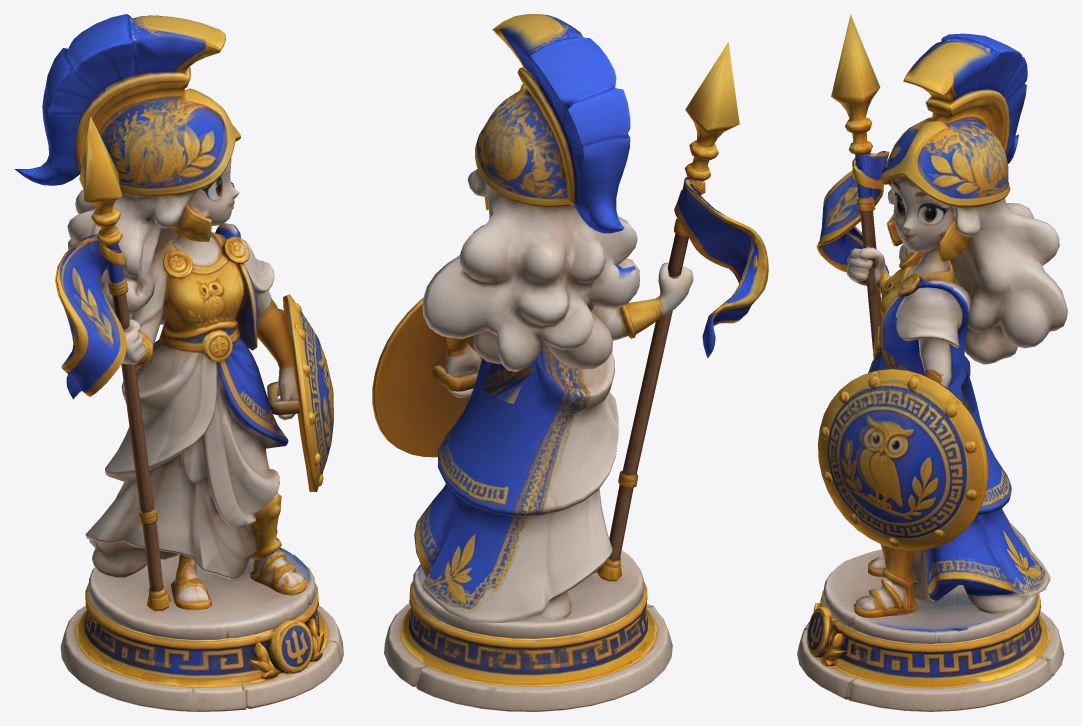
File: goddess1_odyssey.glb
3 views of the same model, side by side, from view 1: azimuth 30°, elevation 25°; view 2: azimuth 150°, elevation 25°; view 3: azimuth 270°, elevation 25° (orthographic). The views are drawn at different scales.
Parts seen in each view (by area): view 1: tripo_node_b92ac68c-af79-4c99-9824-e1b89f0cb1fc; view 2: tripo_node_b92ac68c-af79-4c99-9824-e1b89f0cb1fc; view 3: tripo_node_b92ac68c-af79-4c99-9824-e1b89f0cb1fc.
Boxes of the visible parts, <box> form: tripo_node_b92ac68c-af79-4c99-9824-e1b89f0cb1fc: <box>14,14,343,711</box>; tripo_node_b92ac68c-af79-4c99-9824-e1b89f0cb1fc: <box>372,14,768,711</box>; tripo_node_b92ac68c-af79-4c99-9824-e1b89f0cb1fc: <box>797,14,1067,711</box>.
Size of the model in its own units: 0.5151 by 0.9995 by 0.4126.
1 material, 1 textured.
